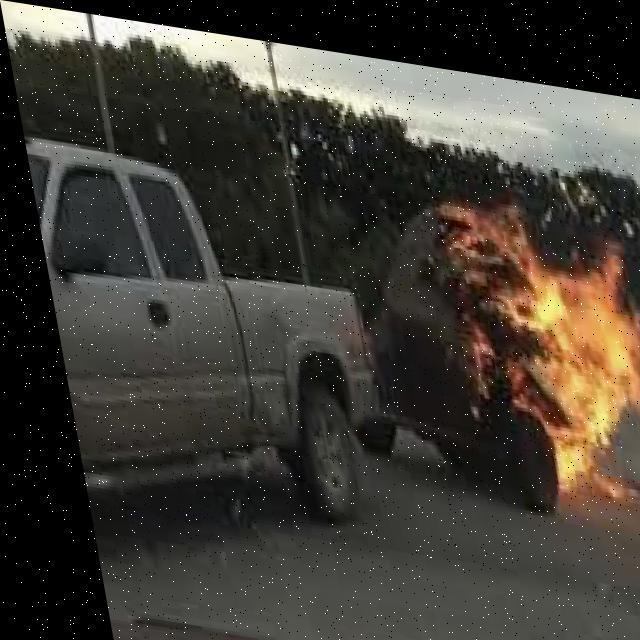Fire: (409, 167, 639, 514)
